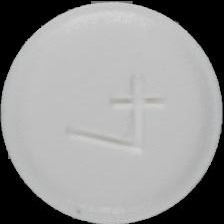55154-3680: (0, 0, 224, 224)
